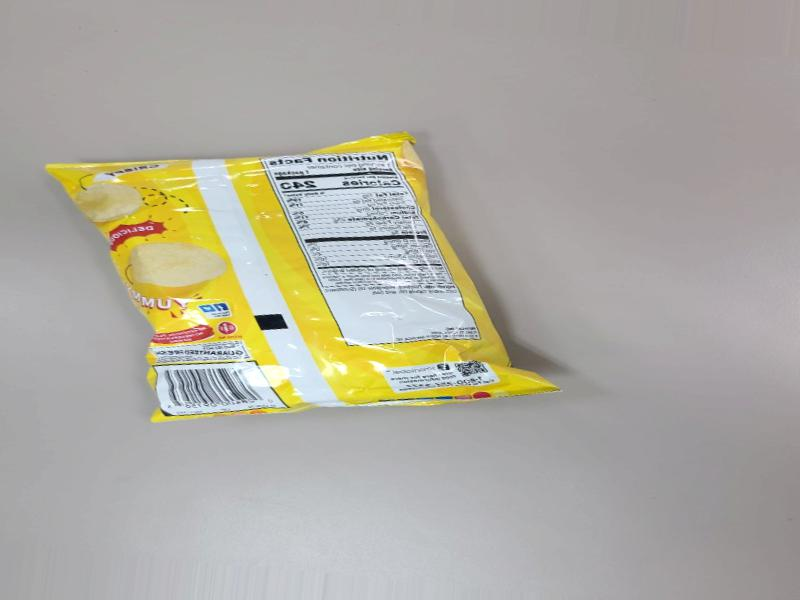lays: (60, 142, 562, 423)
